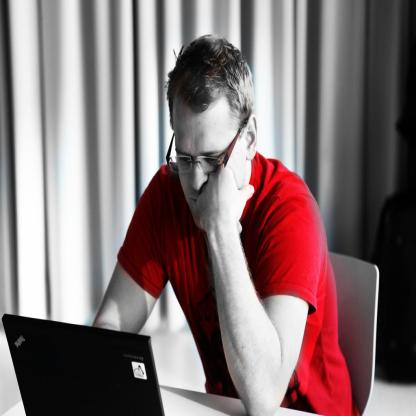board: (17, 310, 164, 416)
